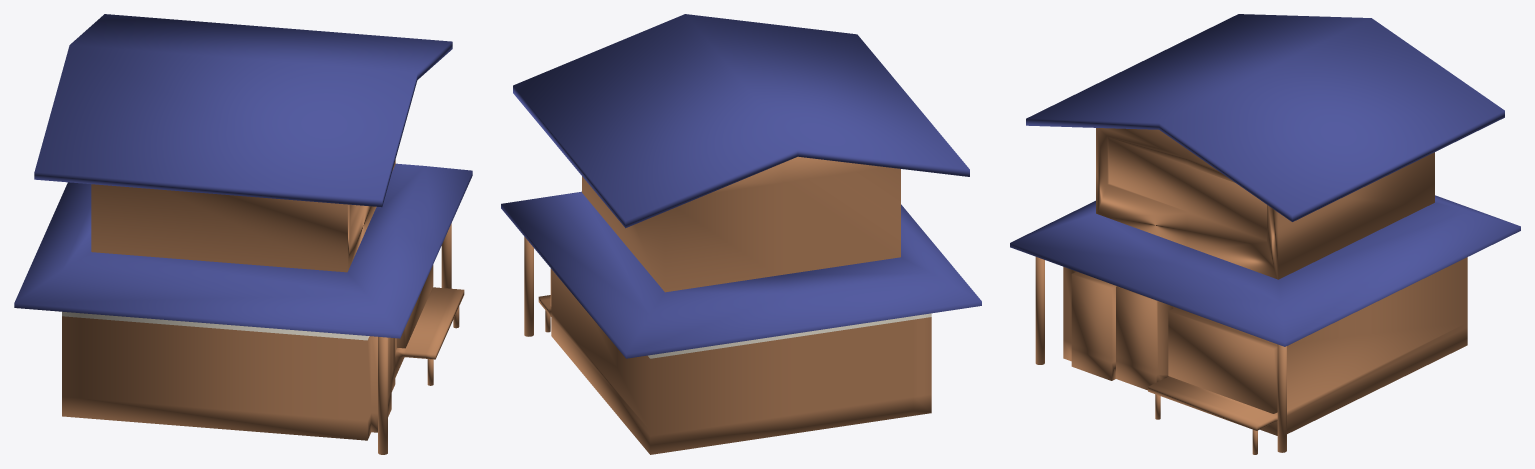
Rendered from 059_古民家013.glb.
3 renders of one model, left to right at view 1: azimuth 30°, elevation 25°; view 2: azimuth 150°, elevation 25°; view 3: azimuth 270°, elevation 25°, orthographic. The views are drawn at different scales.
Visible parts, largest first — view 1: 立方体097_1, 立方体097_3, 立方体097, 立方体097_4, 立方体097_2; view 2: 立方体097_1, 立方体097_3, 立方体097_2, 立方体097; view 3: 立方体097_1, 立方体097_3, 立方体097_4, 立方体097.
Part boxes in pixels (<box>): 立方体097_1: <box>14,14,472,338</box>; 立方体097_3: <box>62,160,464,440</box>; 立方体097: <box>378,223,459,454</box>; 立方体097_4: <box>350,204,433,432</box>; 立方体097_2: <box>62,311,369,340</box>; 立方体097_1: <box>501,14,981,358</box>; 立方体097_3: <box>538,156,931,454</box>; 立方体097_2: <box>648,313,931,358</box>; 立方体097: <box>524,237,550,336</box>; 立方体097_1: <box>1010,14,1520,346</box>; 立方体097_3: <box>1063,128,1467,435</box>; 立方体097_4: <box>1071,137,1277,413</box>; 立方体097: <box>1035,257,1286,454</box>.
Size of the model in its own units: 4.03 by 2.53 by 4.03.
